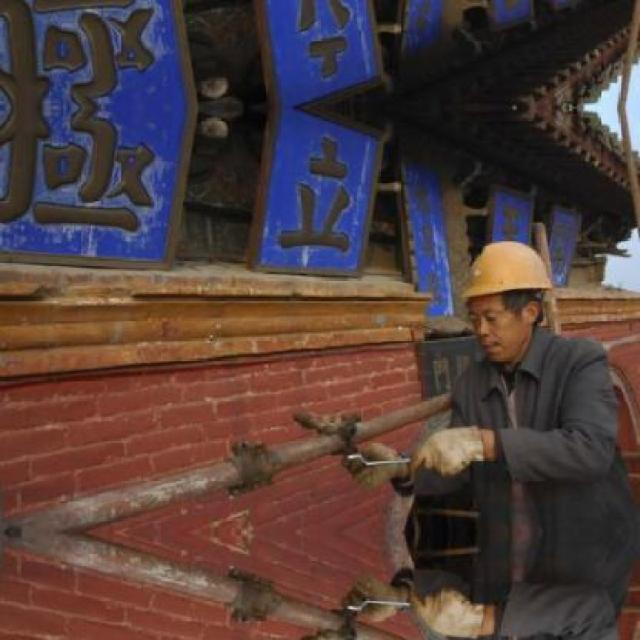helmet: (457, 232, 563, 317)
